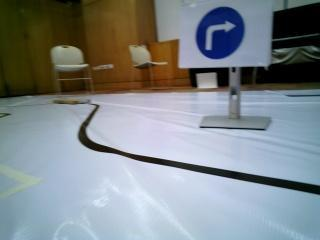right: (181, 0, 263, 63)
